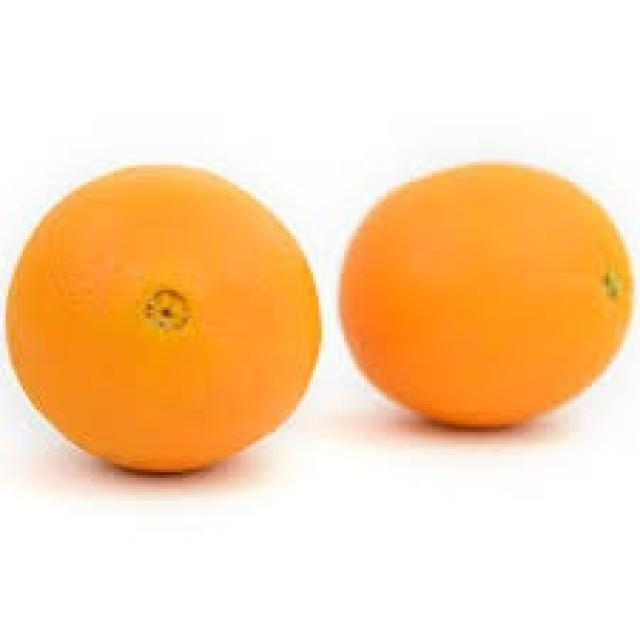Good_Orange: (6, 165, 324, 478), (336, 162, 637, 432)
